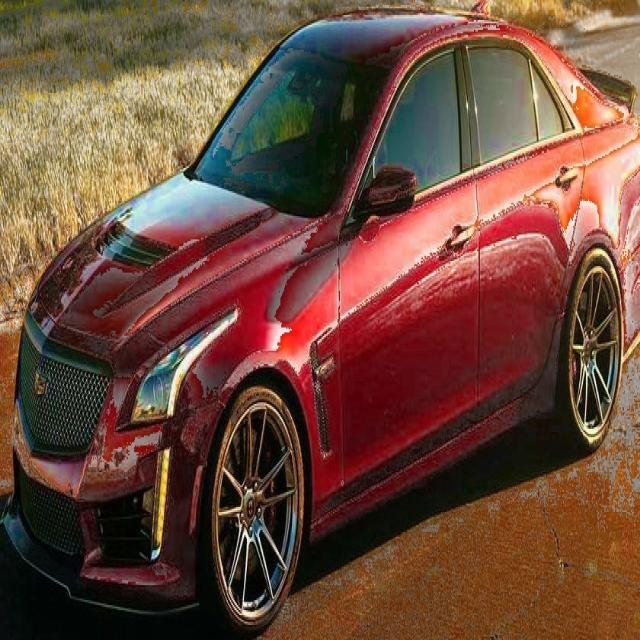maroon: (10, 9, 640, 631)
